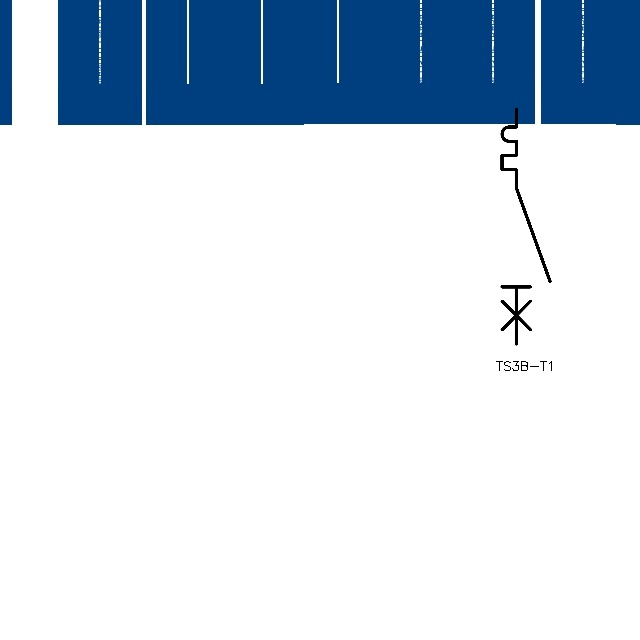interruptor_termomagnetico: (496, 103, 556, 350)
